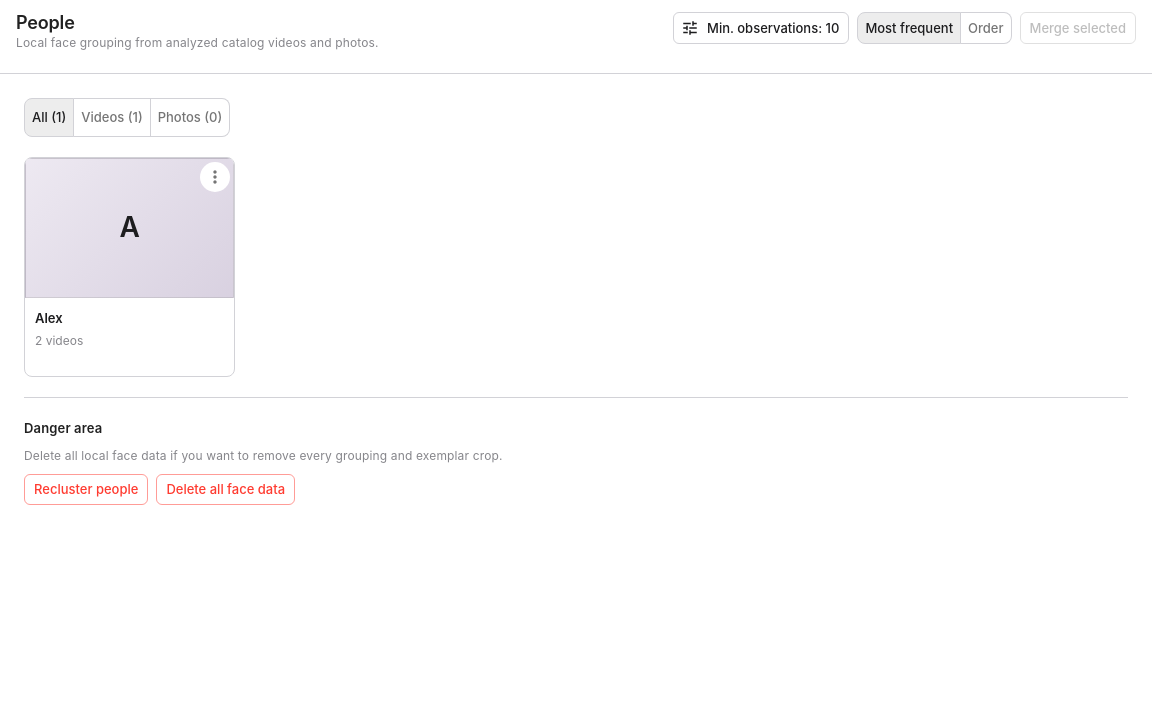
PeopleView › opens the trash dialog with skip on by default and re-previews when toggled
Expected: the element with test id "people-grid" is shown, [24,157,235,377]
Click the button named "More actions for Alex".
click(215, 177)  # box [200,162,230,192]
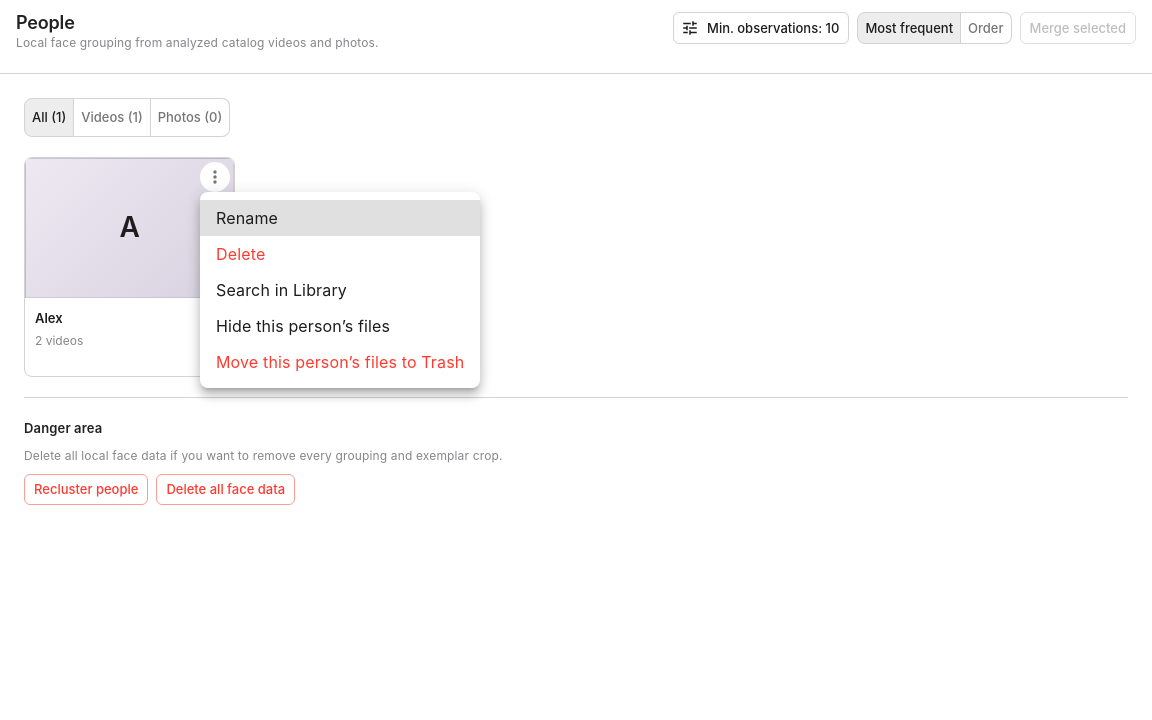
Click the menu item with test id "people-trash-files".
click(340, 362)  # box [216,352,464,372]
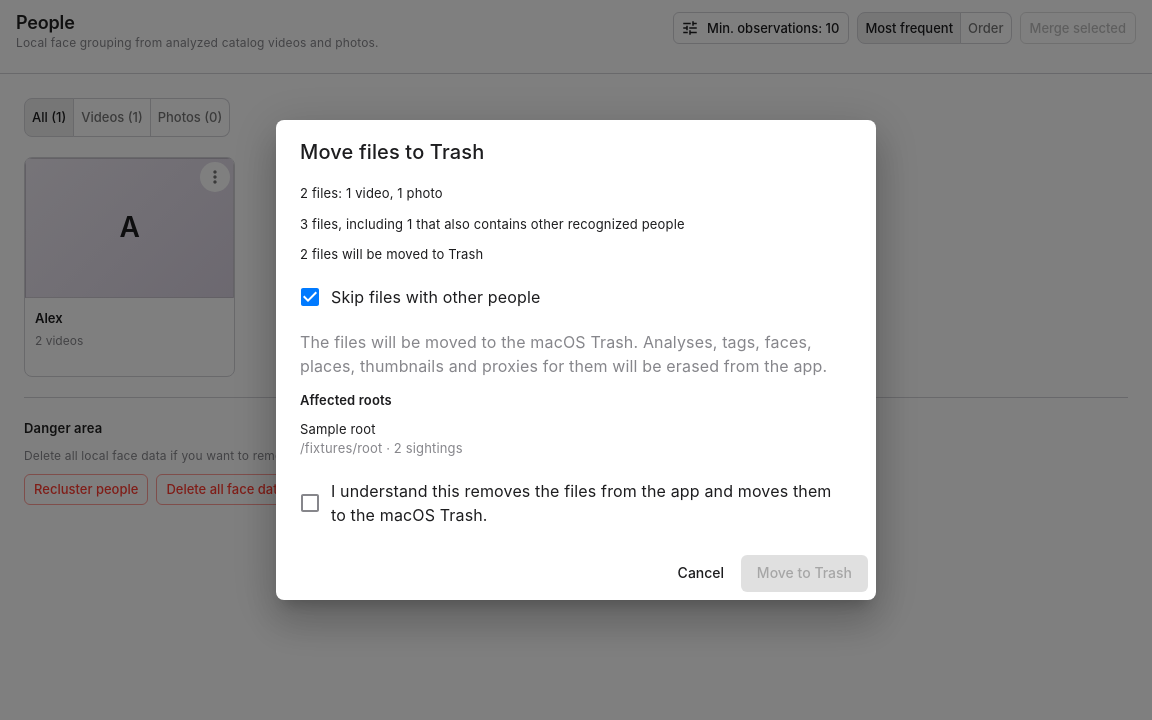
Now the text with test id "library-trash-person-summary" reads "3 files, including 1 that also contains other recognized people", box [300,216,685,232]
Now the text with test id "library-trash-person-action" reads "2 files will be moved to Trash", box [300,246,483,262]
Now the checkbox labelled "Skip files with other people" is checked
Click the checkbox with test id "people-library-skip-shared".
click(419, 297)  # box [298,285,540,309]
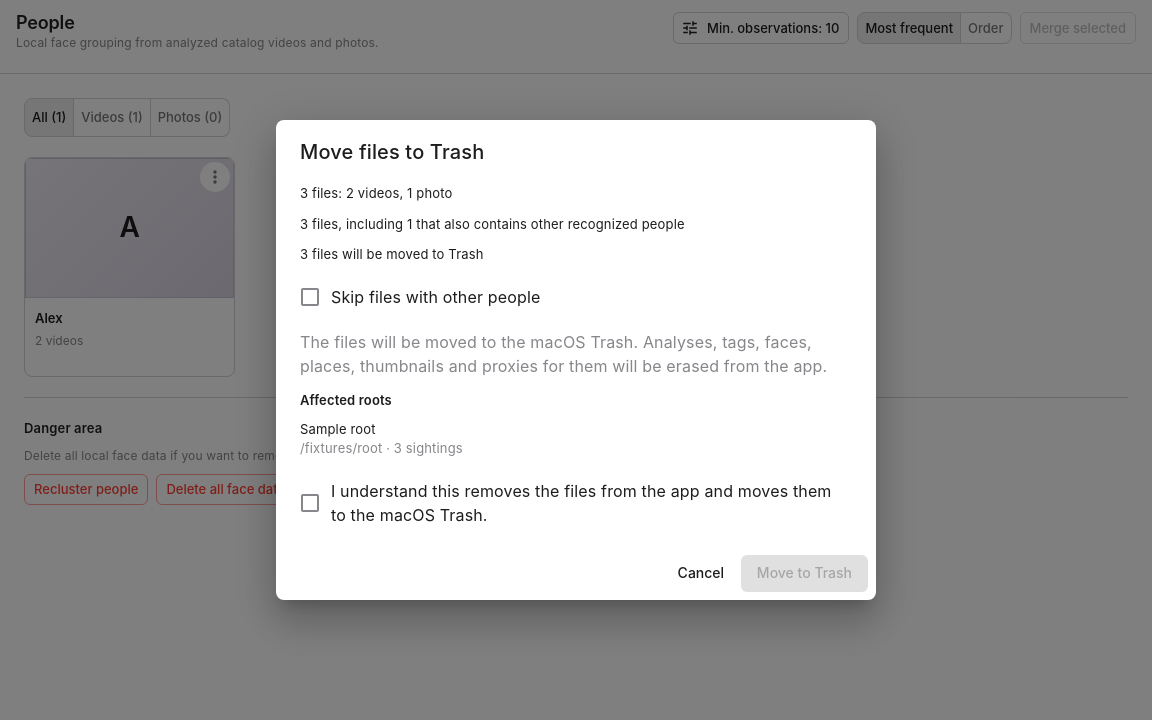
Now the text with test id "library-trash-person-summary" reads "3 files, including 1 that also contains other recognized people", box [300,216,685,232]
Now the text with test id "library-trash-person-action" reads "3 files will be moved to Trash", box [300,246,484,262]
